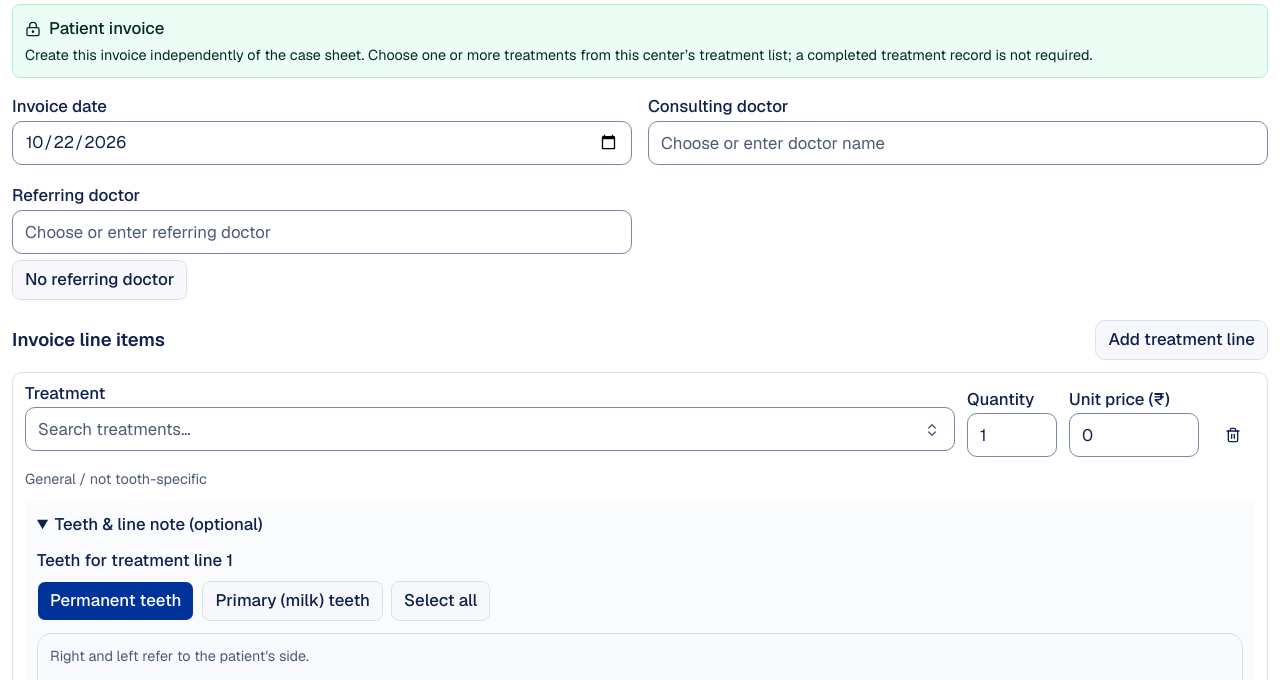
independent invoice editor › keeps site summaries in their own full-width row, outside treatment controls
Type "Dr. Test Doctor" into the field labelled "Consulting doctor". click: (958, 143)
box: [648,121,1268,165]
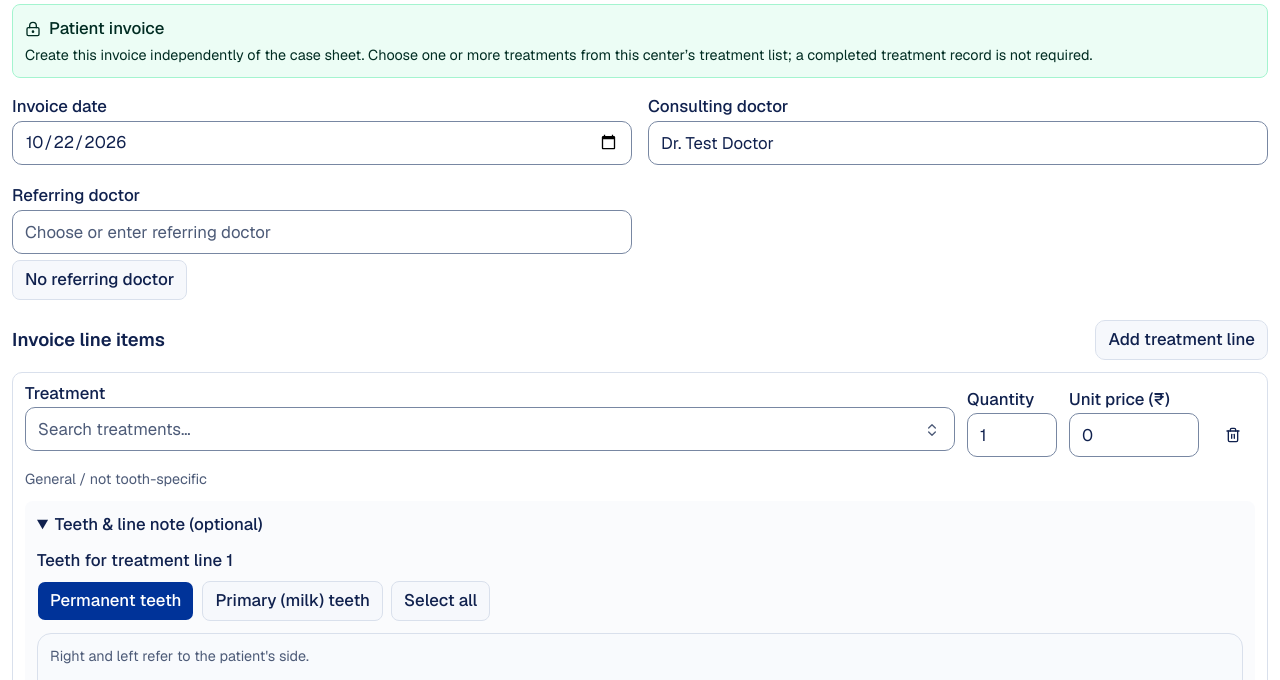
Type "Dr. Referrer" into the field labelled "Referring doctor". click: (322, 232)
box: [12,210,632,254]
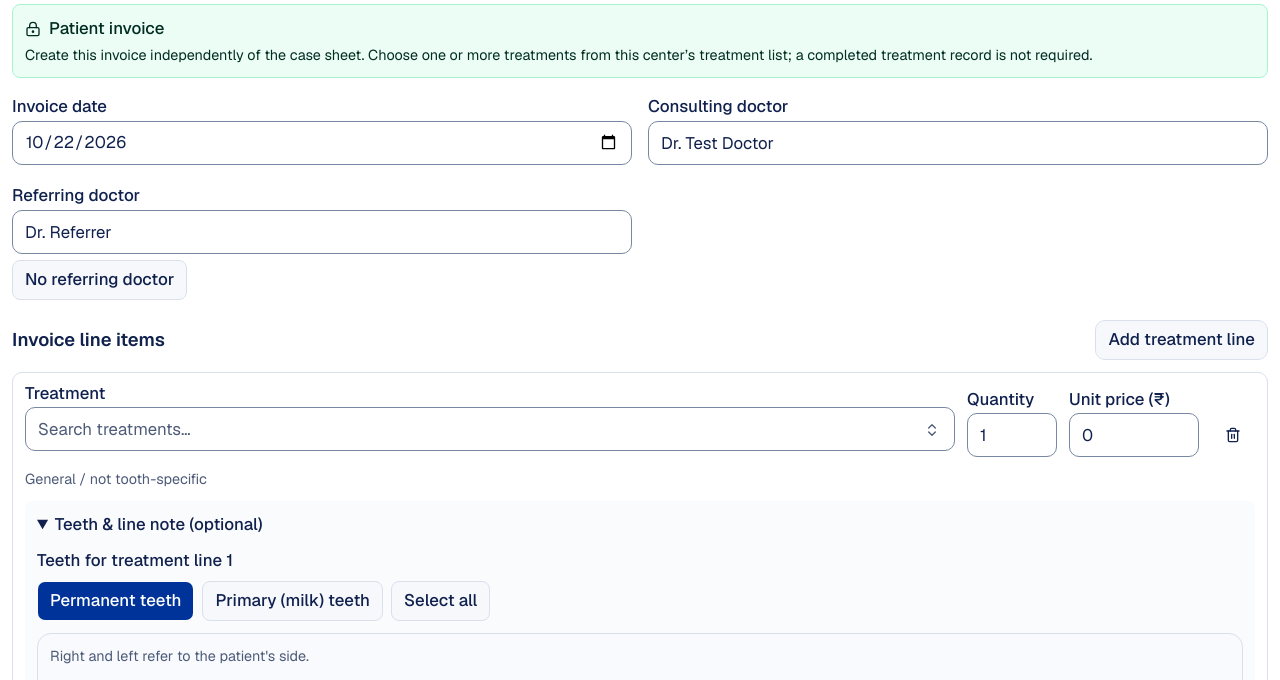
Click the button "Add treatment line". click: (1182, 340)
box: [1096,320,1268,360]
(page scrolled)
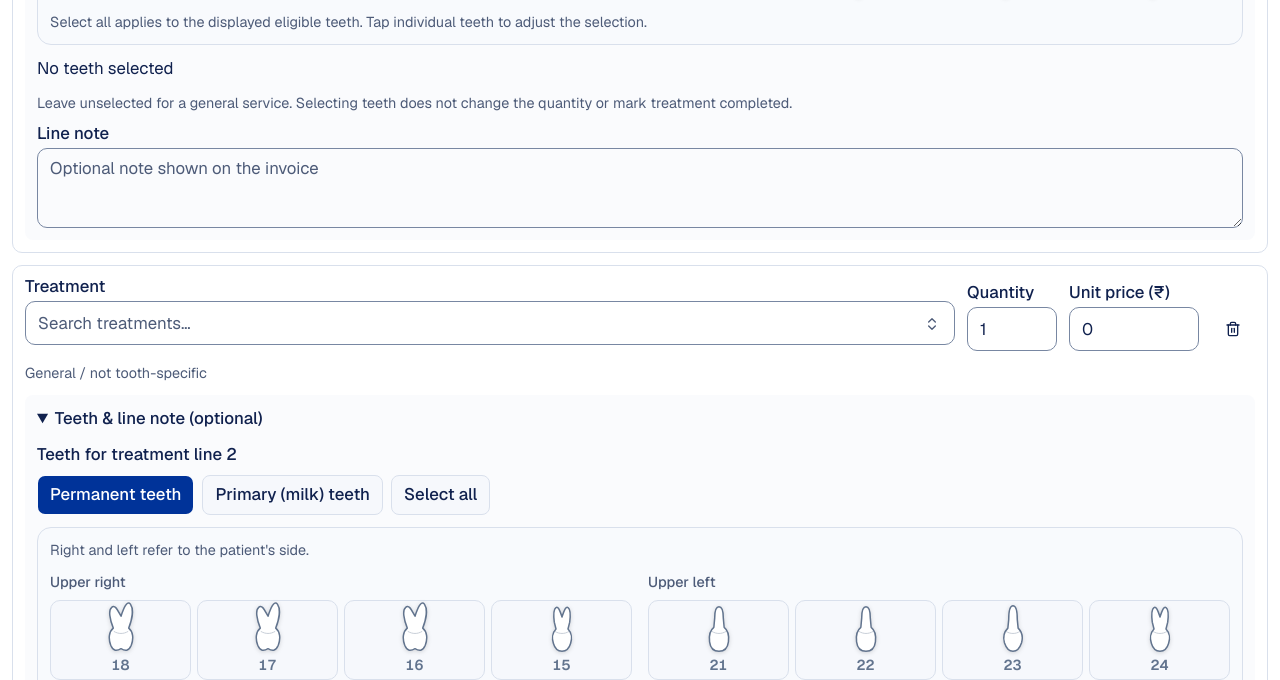
Expected: the number field labelled "Quantity" is enabled, [967,307,1057,351]
Expected: the number field labelled "Unit price (₹)" is enabled, [1069,307,1199,351]
Expected: the button named "Remove treatment line" is enabled, [1211,307,1255,351]
